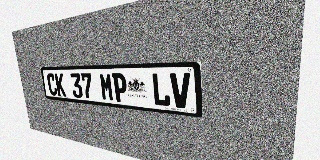3: (70, 73, 83, 98)
7: (80, 73, 94, 99)
C: (46, 73, 58, 96)
K: (54, 73, 66, 97)
L: (151, 73, 171, 107)
M: (99, 73, 114, 101)
P: (112, 73, 128, 103)
V: (170, 73, 191, 109)
